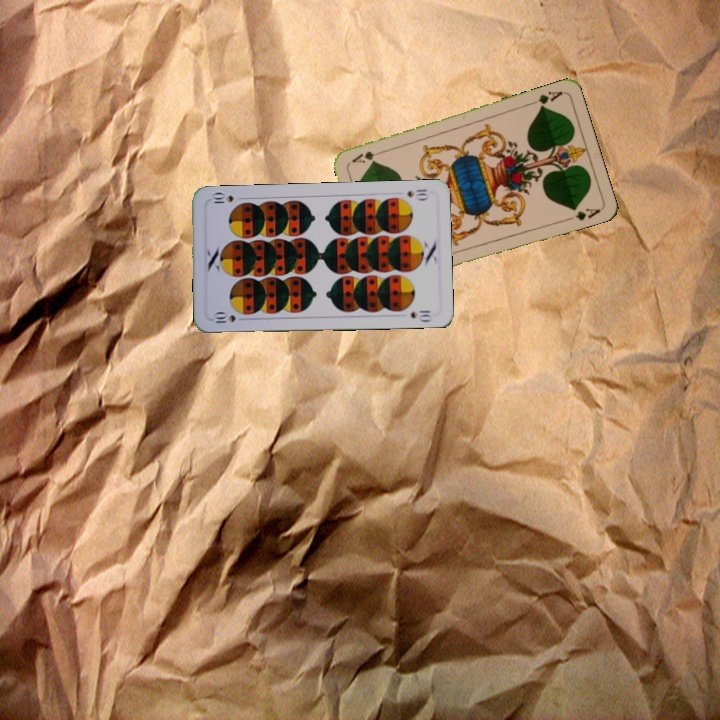GA: (526, 87, 565, 110)
S10: (208, 309, 249, 326), (403, 185, 430, 200)
